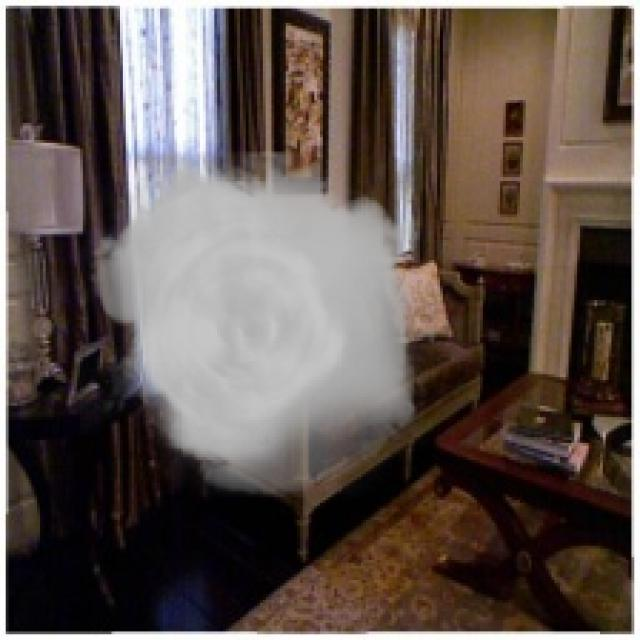smoke: (80, 152, 434, 497)
